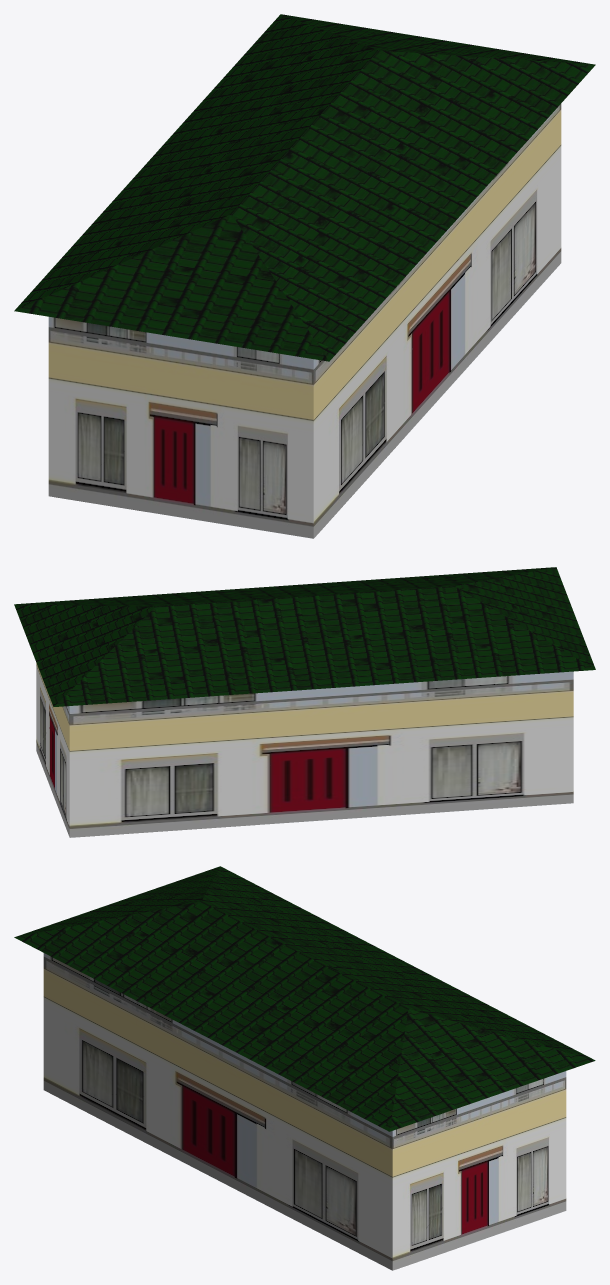
3 renders of one model, top to bottom at view 1: azimuth 30°, elevation 25°; view 2: azimuth 150°, elevation 25°; view 3: azimuth 270°, elevation 25°, orthographic. The views are drawn at different scales.
Parts seen in each view (by area): view 1: CityEngineMaterial_13_m, CityEngineMaterial_15_m; view 2: CityEngineMaterial_15_m, CityEngineMaterial_13_m; view 3: CityEngineMaterial_15_m, CityEngineMaterial_13_m.
Part boxes in pixels (bbox=[...]): CityEngineMaterial_13_m: bbox=[14, 14, 595, 361]; CityEngineMaterial_15_m: bbox=[48, 104, 561, 538]; CityEngineMaterial_15_m: bbox=[36, 663, 573, 837]; CityEngineMaterial_13_m: bbox=[14, 567, 595, 706]; CityEngineMaterial_15_m: bbox=[43, 953, 566, 1270]; CityEngineMaterial_13_m: bbox=[14, 866, 595, 1131].
Size of the model in its own units: 27.93 by 9.58 by 25.86.
